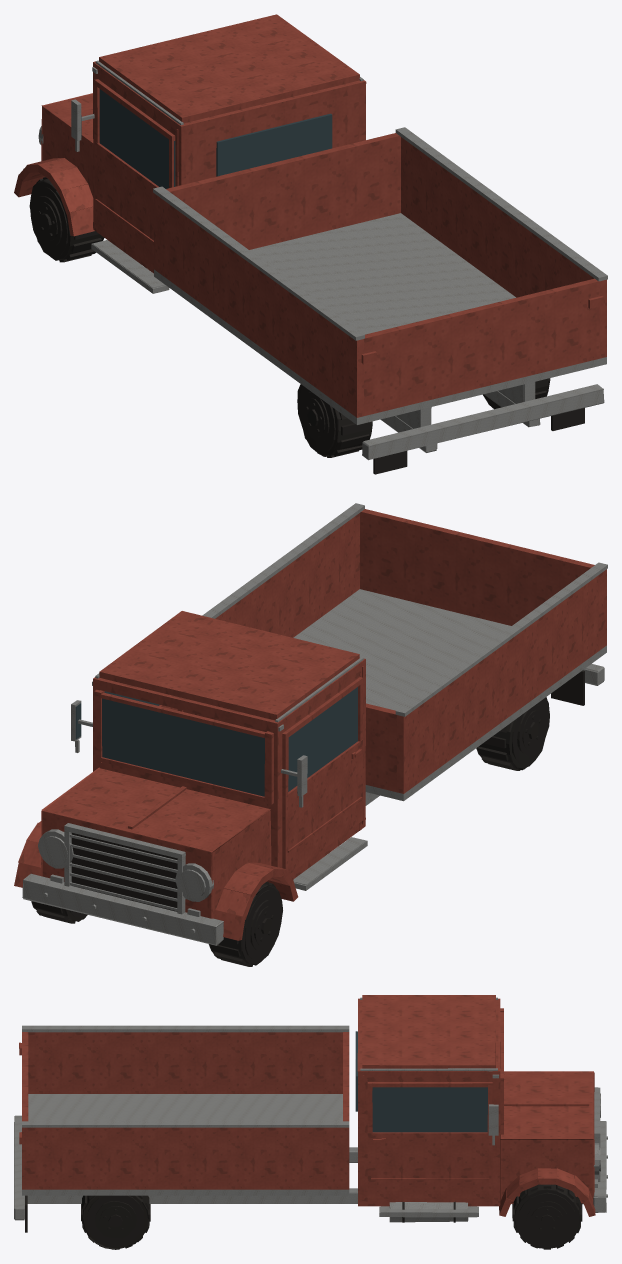
Rendered from rusty_pickup.glb.
The picture shows the model from 3 angles, top to bottom: view 1: azimuth 30°, elevation 25°; view 2: azimuth 150°, elevation 25°; view 3: azimuth 270°, elevation 25°; orthographic projection. The views are drawn at different scales.
Visible parts, largest first — view 1: RustyPickup, Tailgate, Door_L, Glass_L, Wheel_L1, Wheel_L2; view 2: RustyPickup, Tailgate, Door_L, Glass_L, Wheel_L1, Wheel_L2, Wheel_R1; view 3: RustyPickup, Door_R, Glass_R, Wheel_R1, Wheel_R2, Tailgate.
Part boxes in pixels (x1=…): RustyPickup: x1=14, y1=14, x2=607, y2=474; Tailgate: x1=364, y1=278, x2=599, y2=415; Door_L: x1=94, y1=79, x2=175, y2=265; Glass_L: x1=99, y1=89, x2=175, y2=188; Wheel_L1: x1=29, y1=177, x2=104, y2=262; Wheel_L2: x1=297, y1=384, x2=372, y2=457; RustyPickup: x1=14, y1=503, x2=607, y2=945; Tailgate: x1=360, y1=509, x2=594, y2=625; Door_L: x1=282, y1=677, x2=363, y2=873; Glass_L: x1=288, y1=687, x2=357, y2=791; Wheel_L1: x1=208, y1=881, x2=282, y2=966; Wheel_L2: x1=476, y1=697, x2=549, y2=770; Wheel_R1: x1=31, y1=901, x2=87, y2=923; RustyPickup: x1=14, y1=995, x2=607, y2=1232; Door_R: x1=367, y1=1082, x2=492, y2=1198; Glass_R: x1=372, y1=1087, x2=487, y2=1132; Wheel_R1: x1=512, y1=1184, x2=582, y2=1249; Wheel_R2: x1=81, y1=1195, x2=150, y2=1249; Tailgate: x1=22, y1=1032, x2=28, y2=1121.
Bounding box in the file's own units: 3.05 × 2.57 × 7.72.
4 materials, 2 textured.
